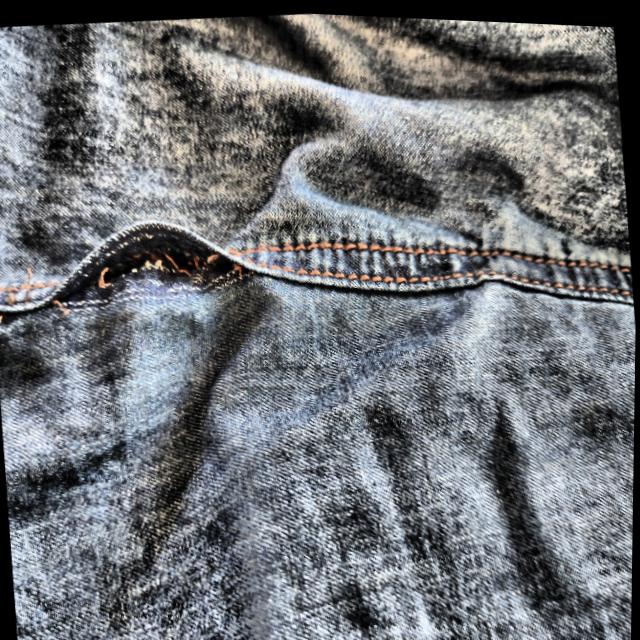seam: (60, 198, 240, 338)
